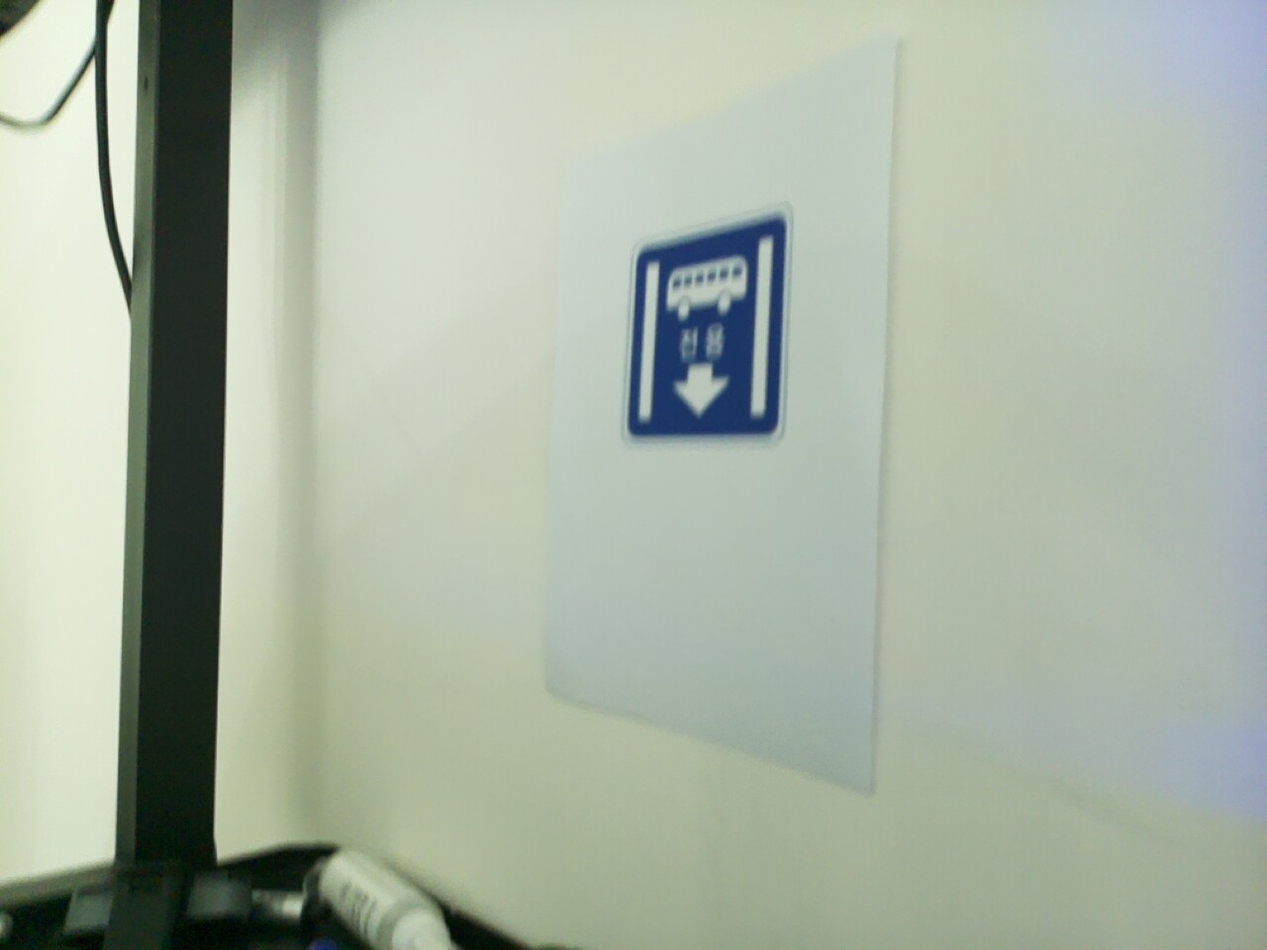bus_only_lane: (33, 0, 146, 904)
